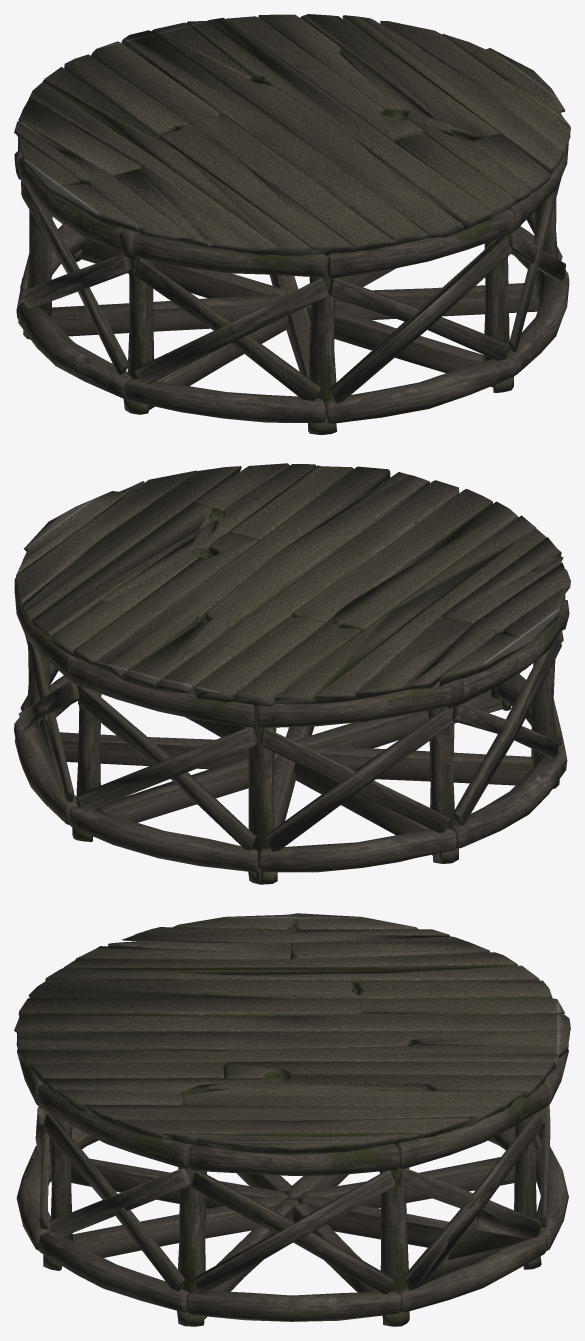
Rendered from platform_t2.glb.
The picture shows the model from 3 angles, top to bottom: view 1: azimuth 30°, elevation 25°; view 2: azimuth 150°, elevation 25°; view 3: azimuth 270°, elevation 25°; orthographic projection.
Size of the model in its own units: 0.9551 by 0.3633 by 0.9541.
1 material, 1 textured.
